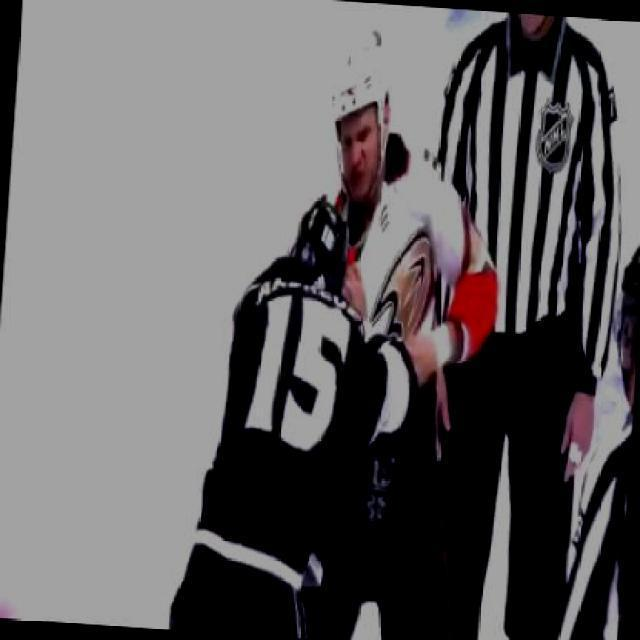fight: (204, 7, 518, 638)
